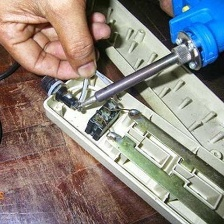three_eye_plug: (32, 58, 223, 224)
